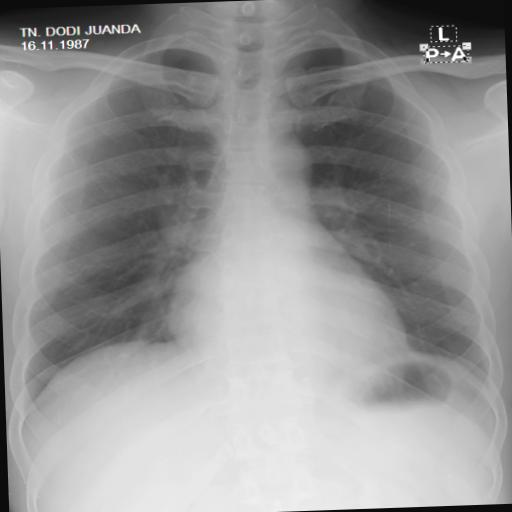kardiomegali: (0, 20, 507, 423)
